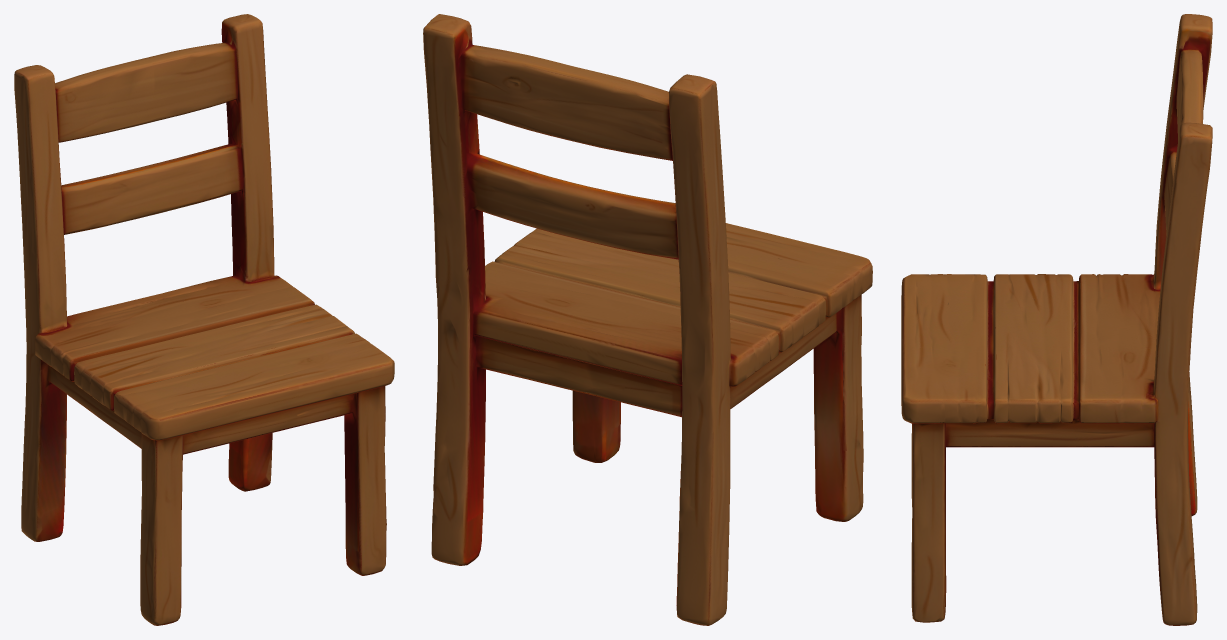
The model's file is wooden+chair+3d+model.fbx.
3 views of the same model, side by side, from view 1: azimuth 30°, elevation 25°; view 2: azimuth 150°, elevation 25°; view 3: azimuth 270°, elevation 25° (orthographic). The views are drawn at different scales.
Visible parts, largest first — view 1: tripo_node_a3334ed1; view 2: tripo_node_a3334ed1; view 3: tripo_node_a3334ed1.
Boxes of the visible parts, x1,y1,x2,y2 form: tripo_node_a3334ed1: [14, 14, 394, 625]; tripo_node_a3334ed1: [423, 14, 872, 625]; tripo_node_a3334ed1: [901, 14, 1212, 625].
Size of the model in its own units: 0.5593 by 0.9999 by 0.5732.
Materials: 1 (1 with a texture image).
